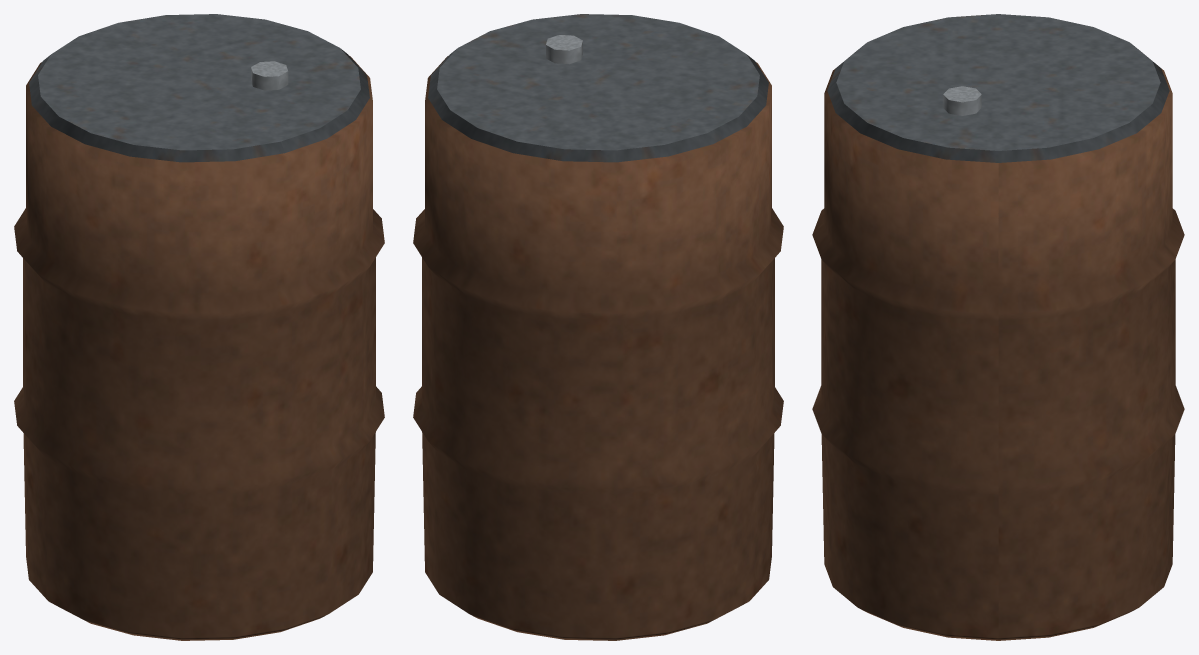
Rendered from prop.drum.glb.
The picture shows the model from 3 angles, left to right: view 1: azimuth 30°, elevation 25°; view 2: azimuth 150°, elevation 25°; view 3: azimuth 270°, elevation 25°; orthographic projection.
Parts seen in each view (by area): view 1: prop.drum; view 2: prop.drum; view 3: prop.drum.
Boxes of the visible parts, box(x1,y1,x2,y2) form: prop.drum: box(14, 14, 384, 640); prop.drum: box(413, 14, 783, 640); prop.drum: box(812, 14, 1184, 640).
Size of the model in its own units: 0.62 by 0.925 by 0.62.
Materials: 3 (3 with a texture image).
